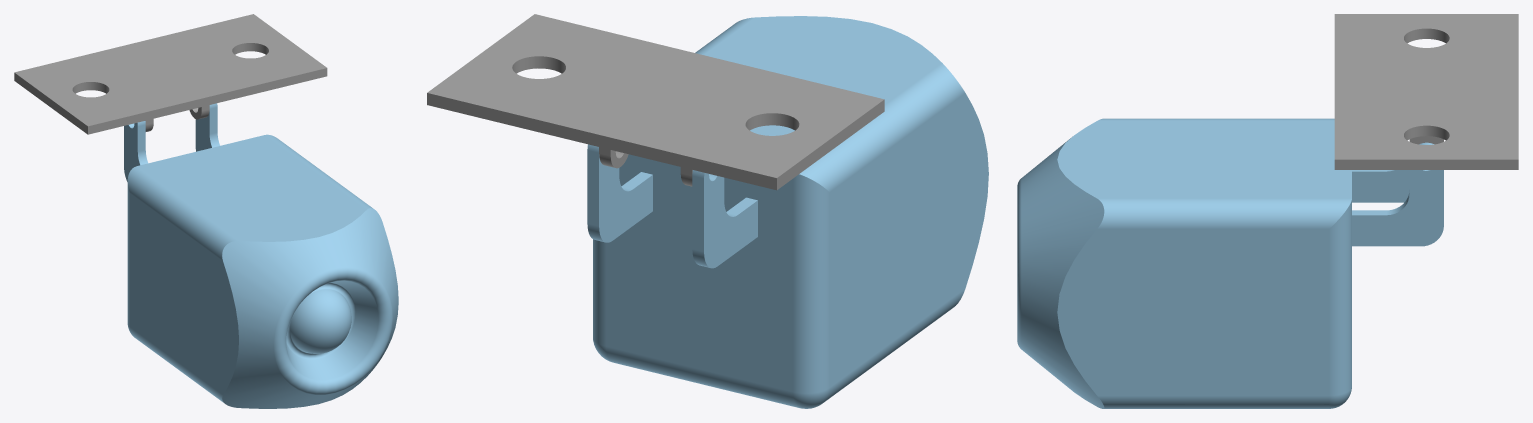
The model's file is Camera.dae.
3 renders of one model, left to right at view 1: azimuth 30°, elevation 25°; view 2: azimuth 150°, elevation 25°; view 3: azimuth 270°, elevation 25°, orthographic. The views are drawn at different scales.
Visible parts, largest first — view 1: 67d8cbc74bf4d90a4882ba03 (×2); view 2: 67d8cbc74bf4d90a4882ba03 (×2); view 3: 67d8cbc74bf4d90a4882ba03 (×2).
Boxes of the visible parts, x1=… form: 67d8cbc74bf4d90a4882ba03 (×2): x1=14, y1=14, x2=398, y2=408; 67d8cbc74bf4d90a4882ba03 (×2): x1=427, y1=14, x2=988, y2=408; 67d8cbc74bf4d90a4882ba03 (×2): x1=1017, y1=14, x2=1518, y2=408.
Bounding box in the file's own units: 0.015 × 0.0218 × 0.0135.
